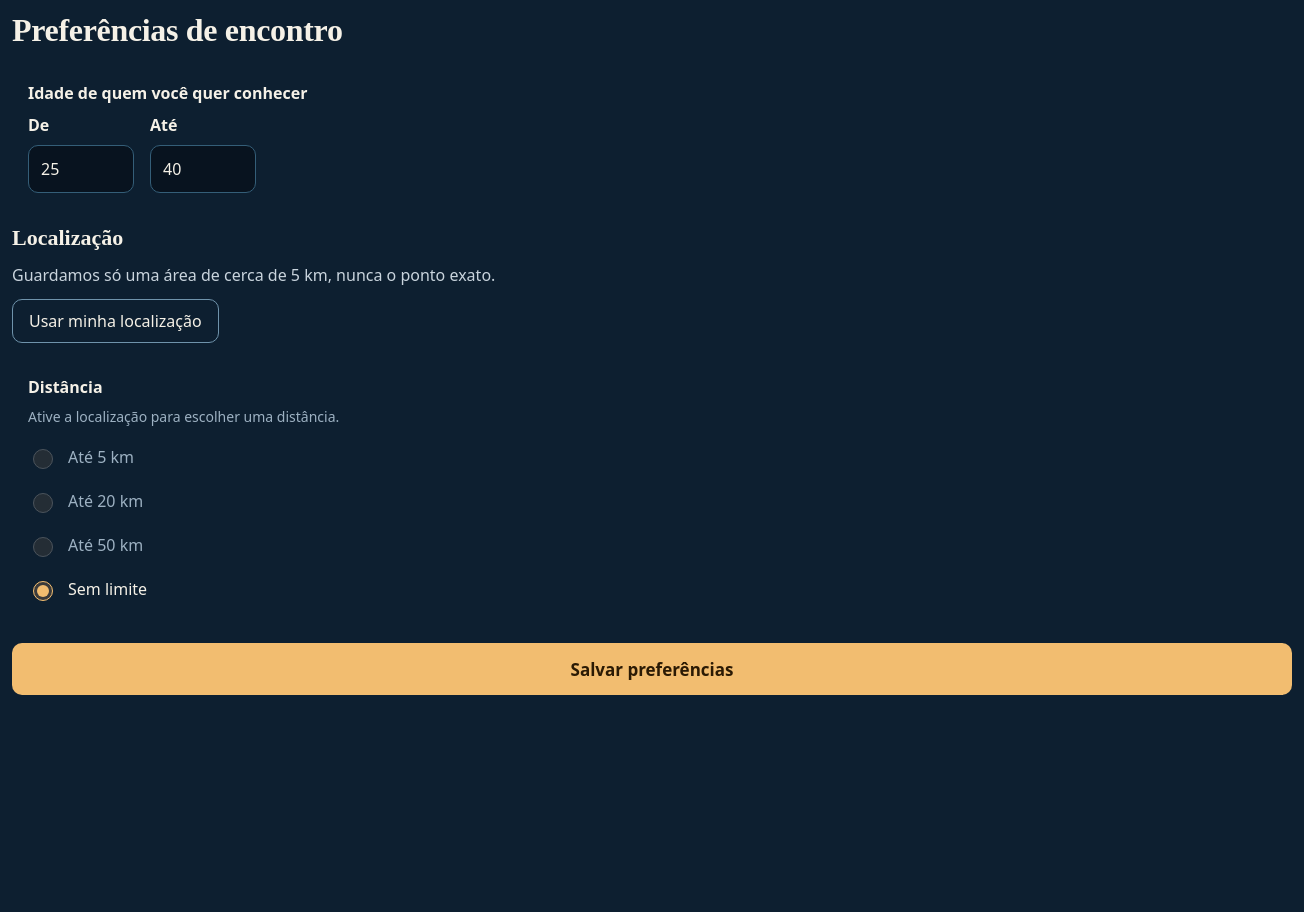
Preferencias › idadeDeMaiorQueAteRecusada
Step 1. Replace the text in the number field labelled "De" with "50" → [81, 169], box 28,145 -> 134,193
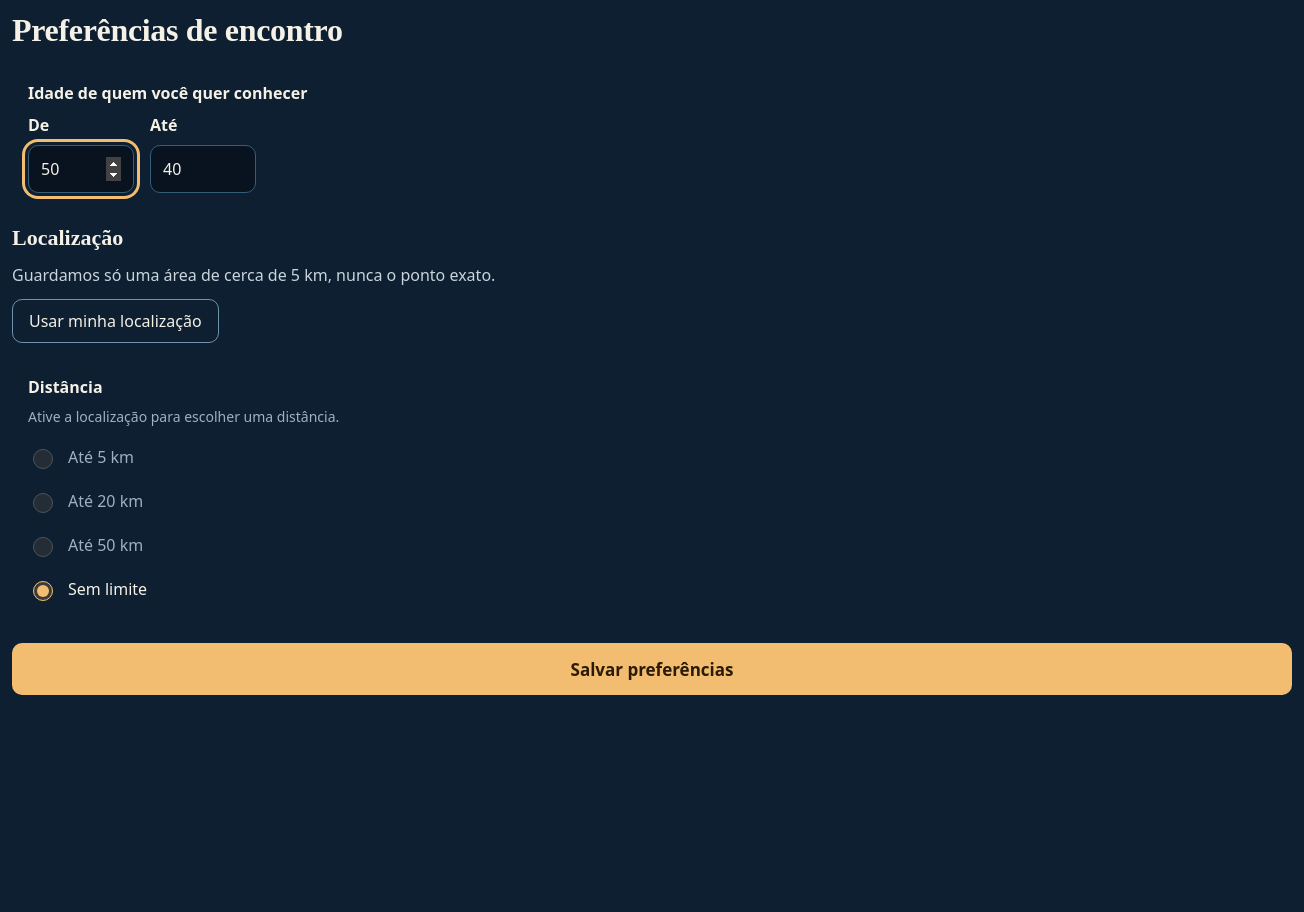
Step 2. Click the button "Salvar preferências" → [652, 670], box 12,644 -> 1292,696
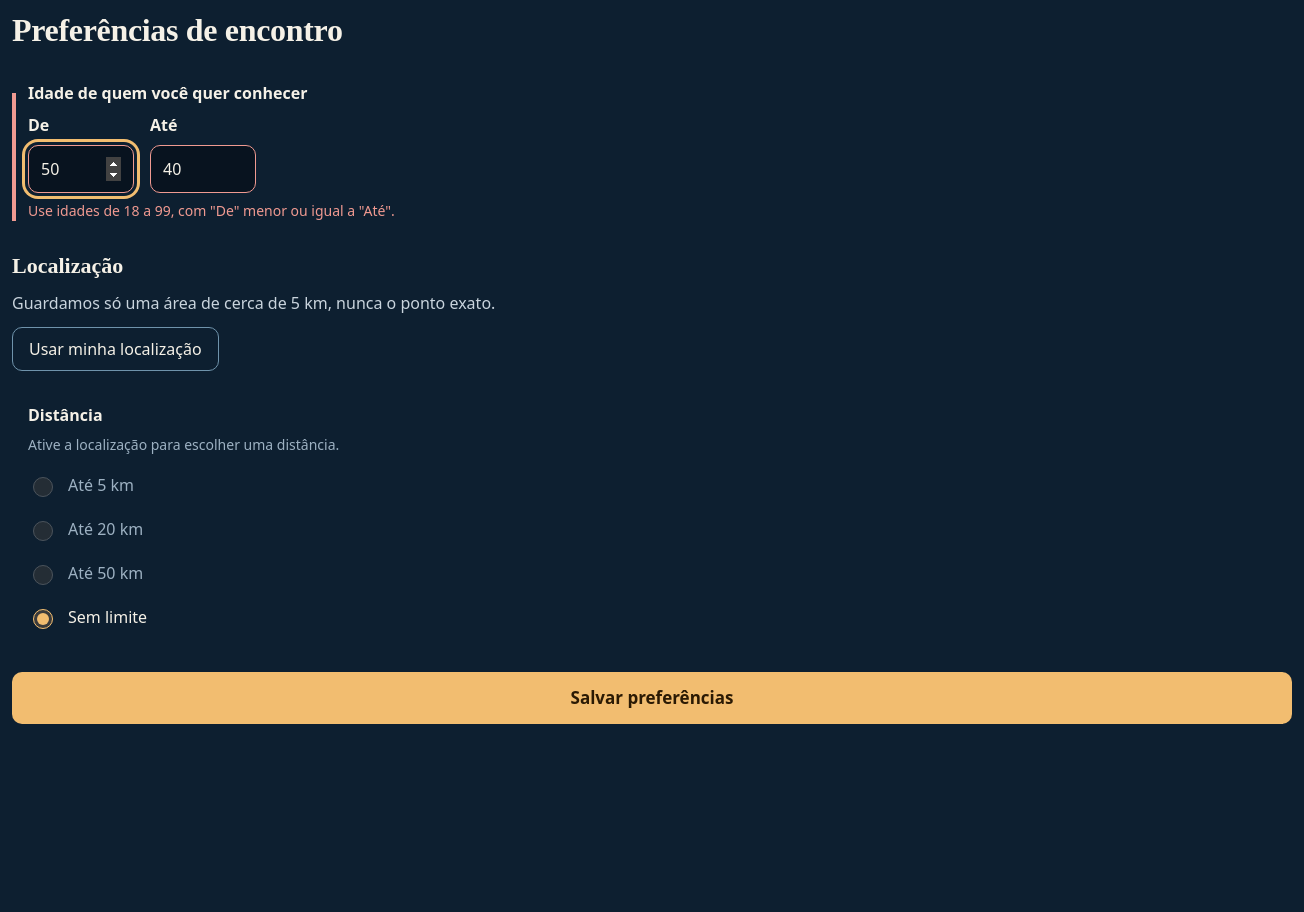
Expected: the text "Use idades de 18 a 99, com \"De\" menor ou igual a \"Até\"." is shown, 28,201 -> 395,220
